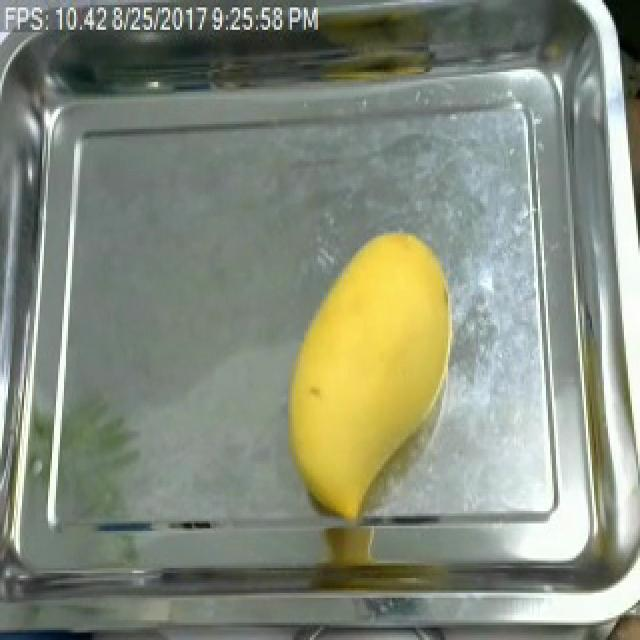fruit: (272, 221, 464, 536)
